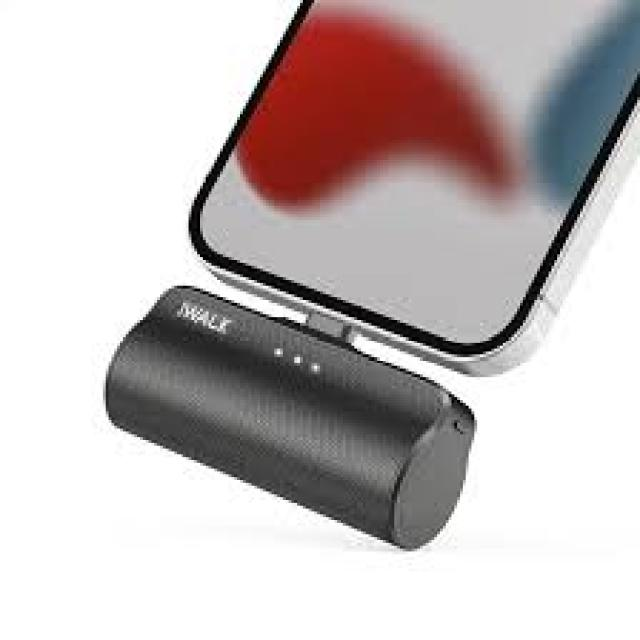portable-charger: (104, 283, 481, 551)
